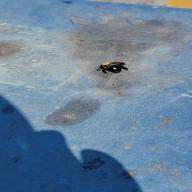Bee: (96, 61, 133, 74)
